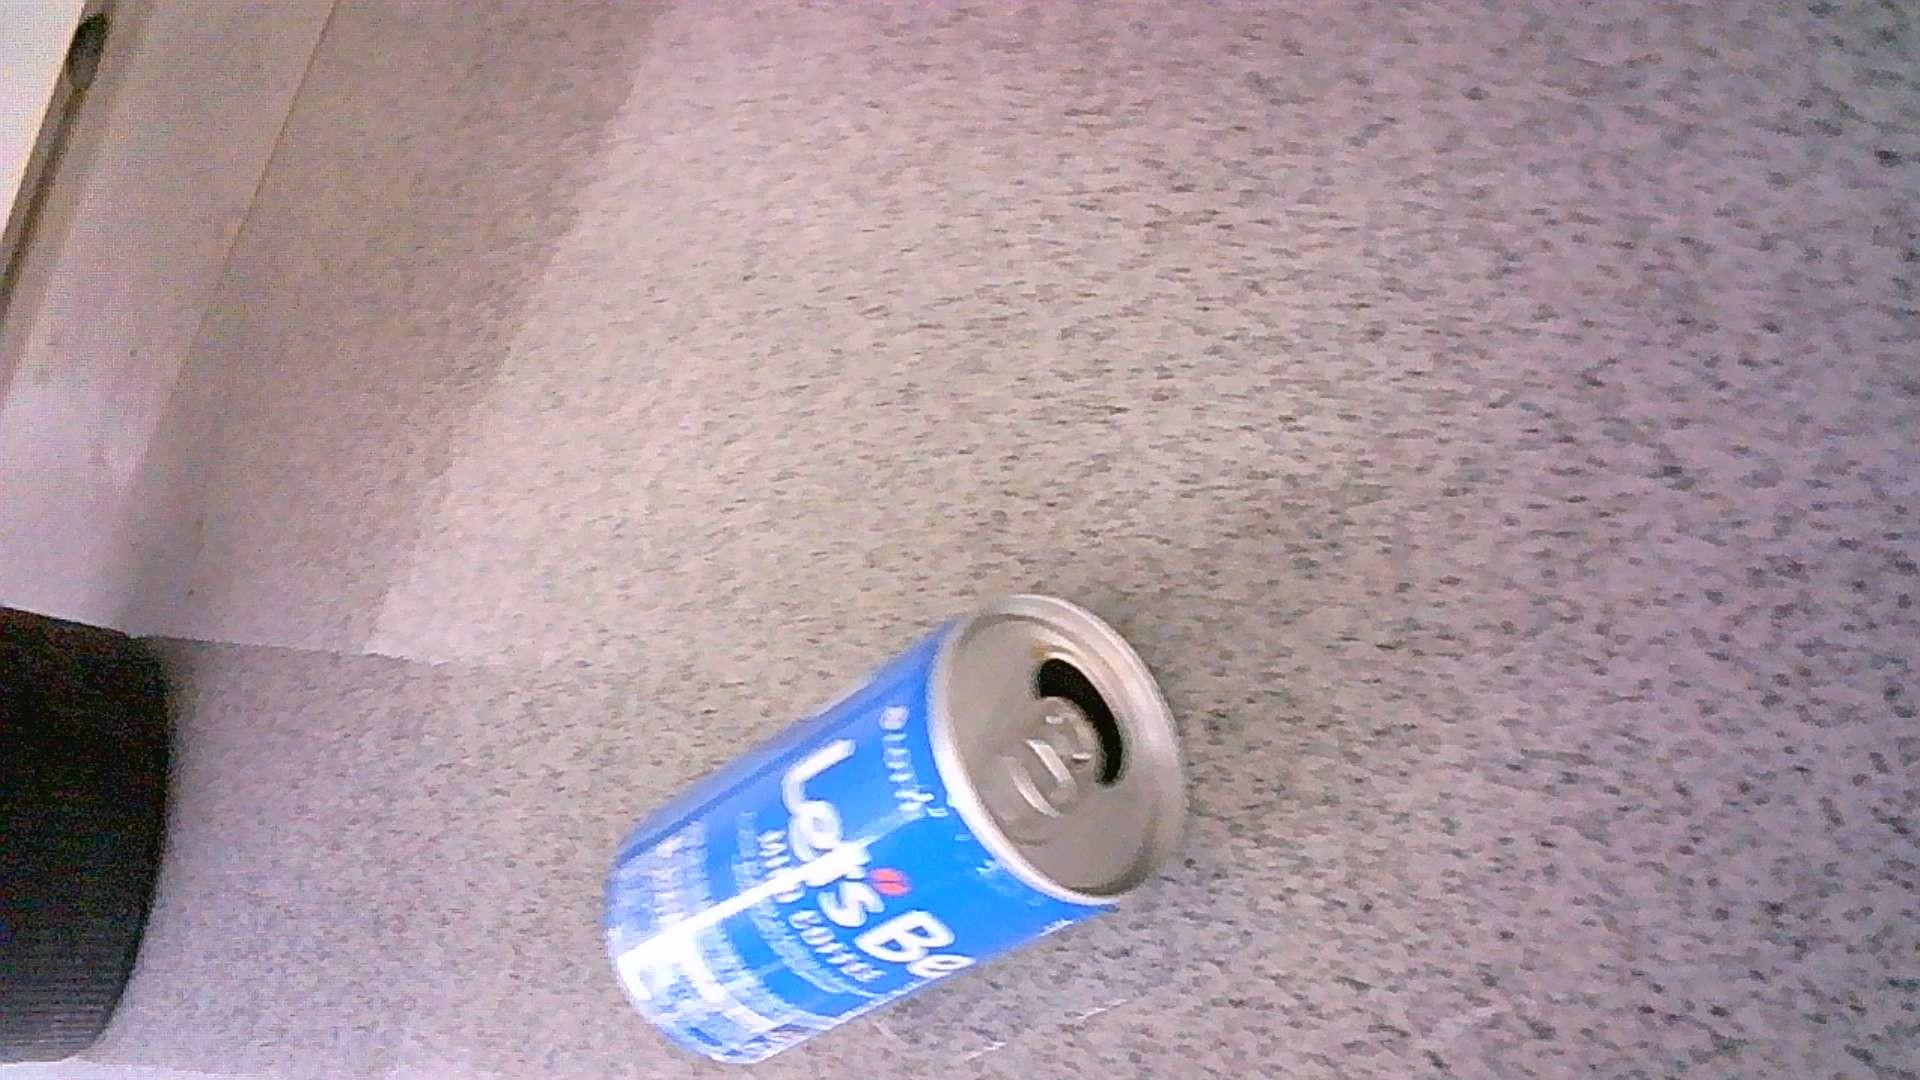letsbe: (604, 593, 1185, 1064)
